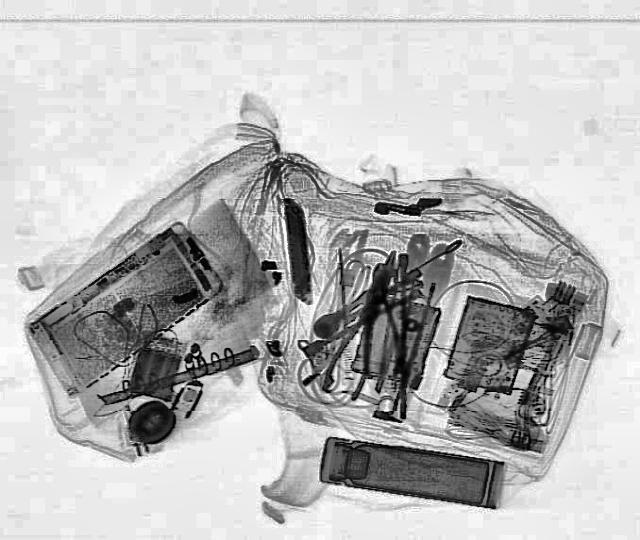Pliers: (315, 246, 415, 402), (357, 262, 401, 374)
